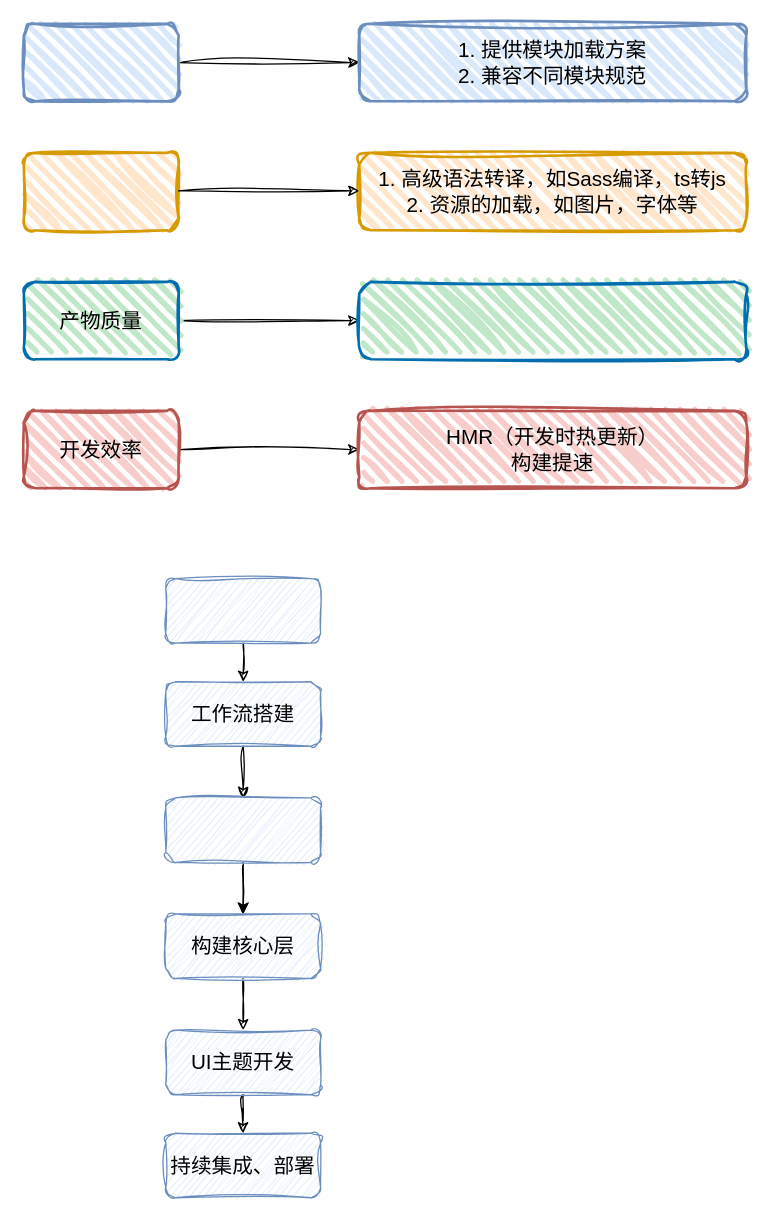
Some shapes in this 769 by 1220 pixel diagram are drawn without their labels. Here are the shapes that lost their labels. From the top down, the box of each, then its label:
(22, 22, 179, 102): 模块化方案
(22, 151, 179, 231): 语法转译
(357, 280, 747, 360): 产物压缩、语法降级、Tree Shaking、 代码混淆
(164, 577, 321, 643): MVP版本开发
(164, 797, 321, 862): 配置文件解析
